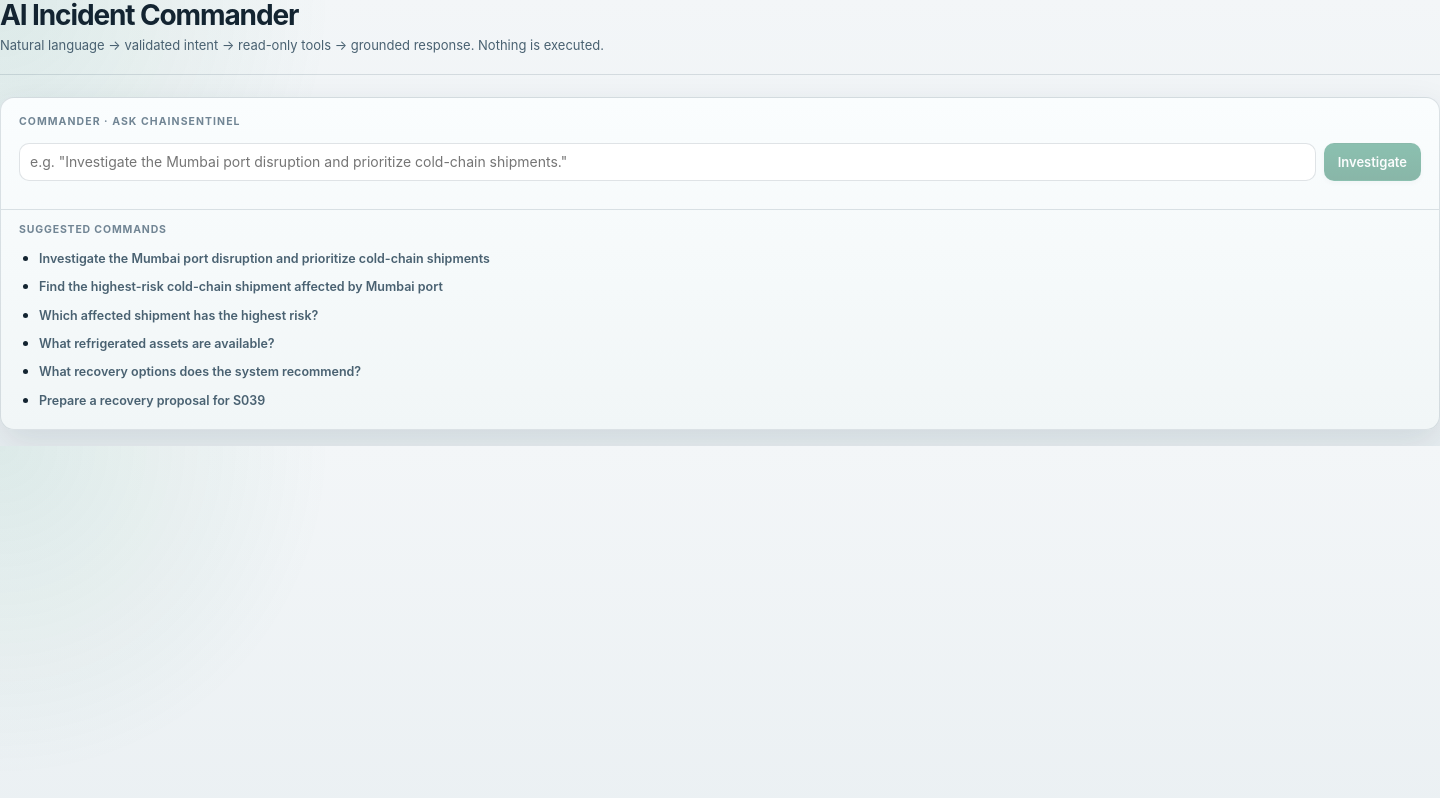
Test case: AI Incident Commander screen › renders the deterministic fallback state without claiming AI authorship
Replace the text in the field with placeholder "Investigate the Mumbai" with "Investigate the Mumbai port disruption and prioritize cold-chain shipments." at [667, 162], box [19, 143, 1316, 181]
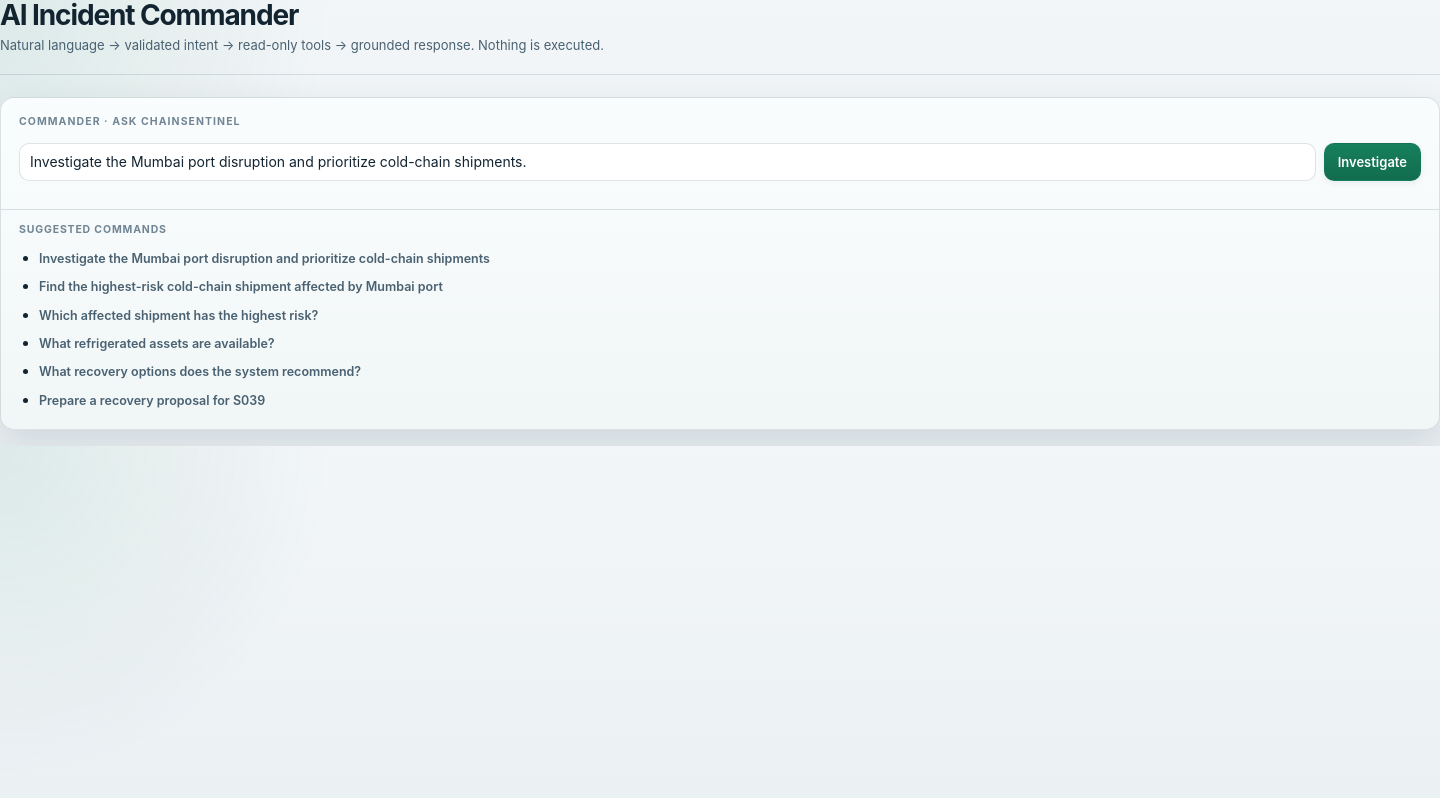
Click the button "Investigate" at [1372, 162], box [1324, 143, 1421, 181]
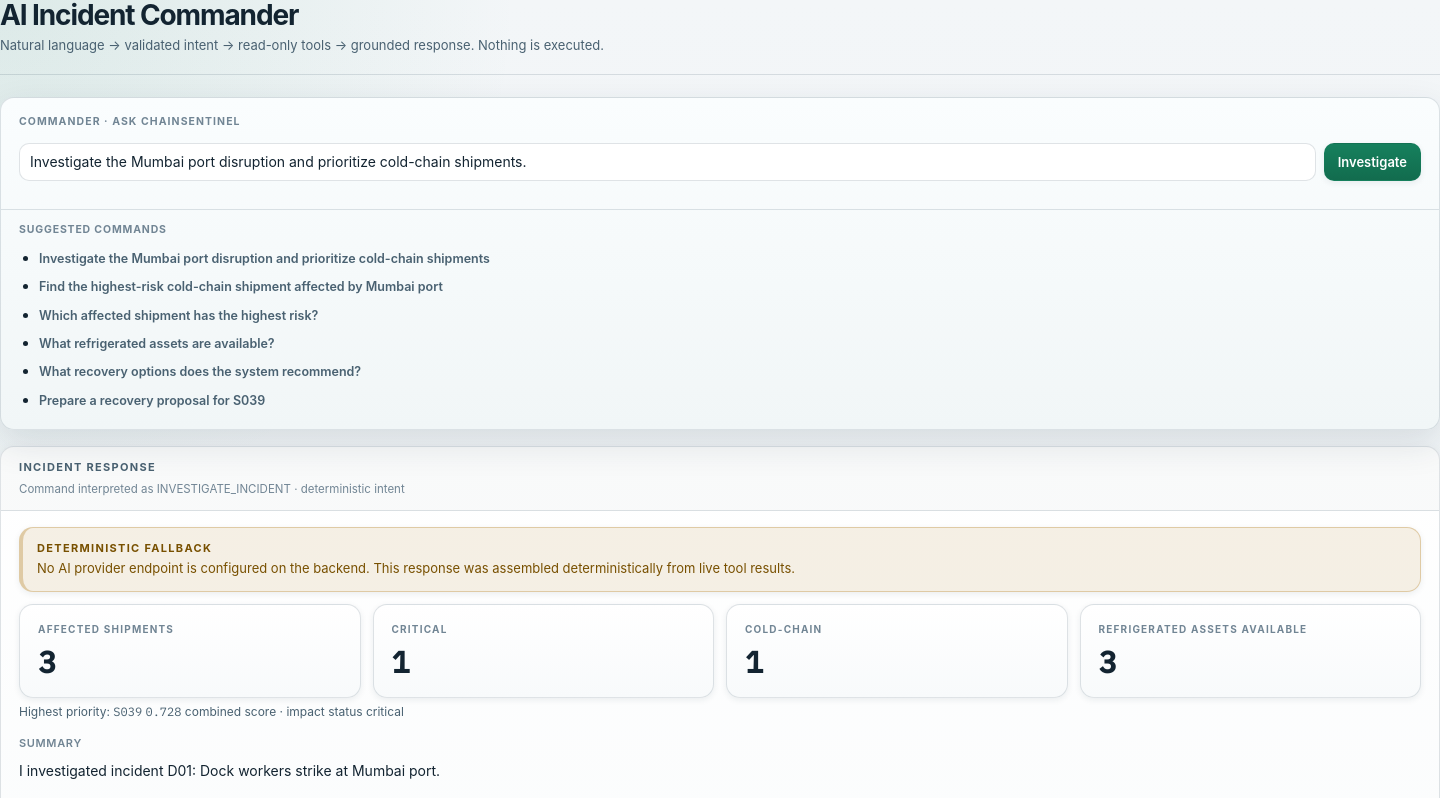
expect the text "Deterministic fallback" is shown: met, box [37, 541, 212, 555]
expect the text "assembled deterministically from live tool results" is shown: met, box [374, 560, 795, 576]
